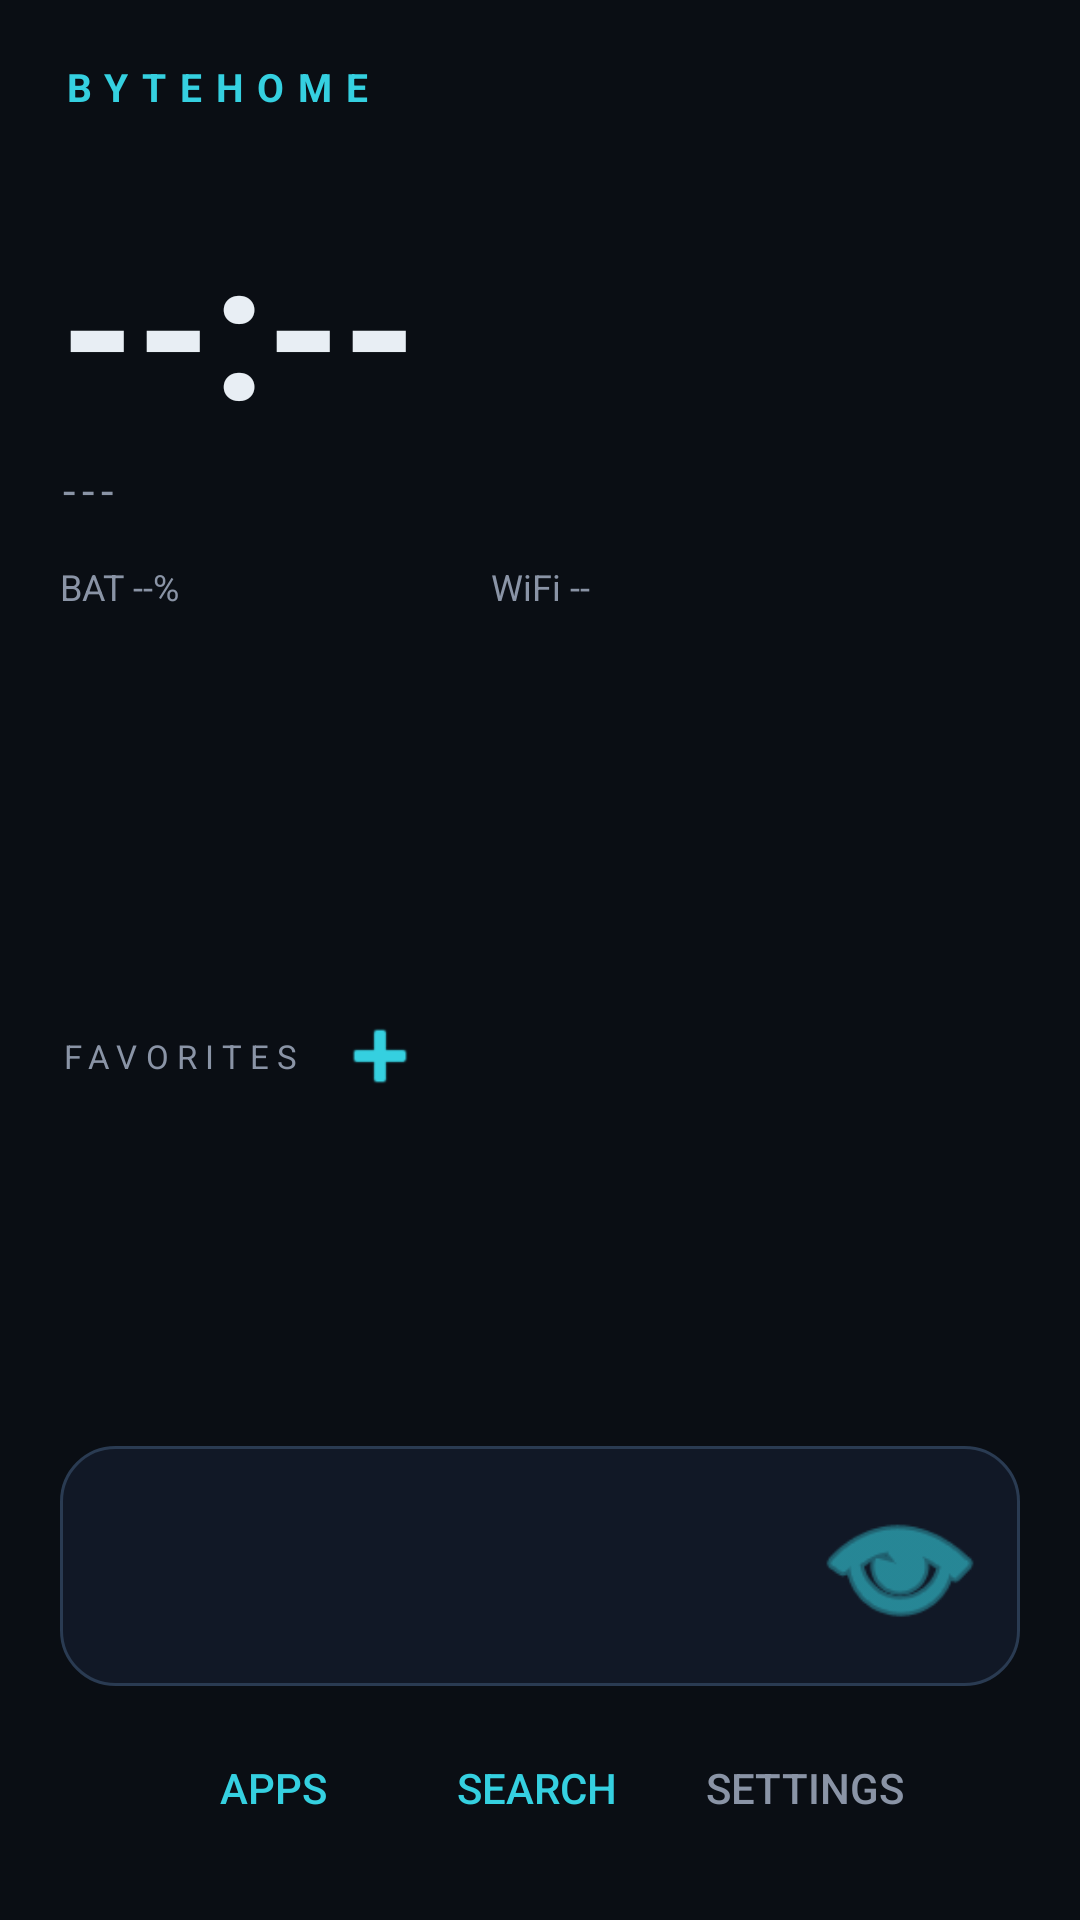

Locate icon controls on the screen. Image size 1080px×1920px, boxes as {"left": x1, "top": y1, "right": x2, "bottom": y2}.
Add favorite: {"left": 353, "top": 1029, "right": 407, "bottom": 1083}
